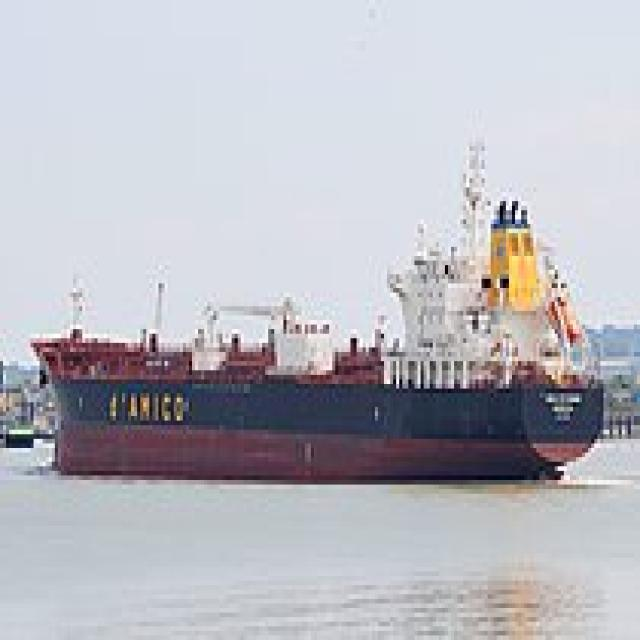Tanker: (24, 188, 606, 484)
